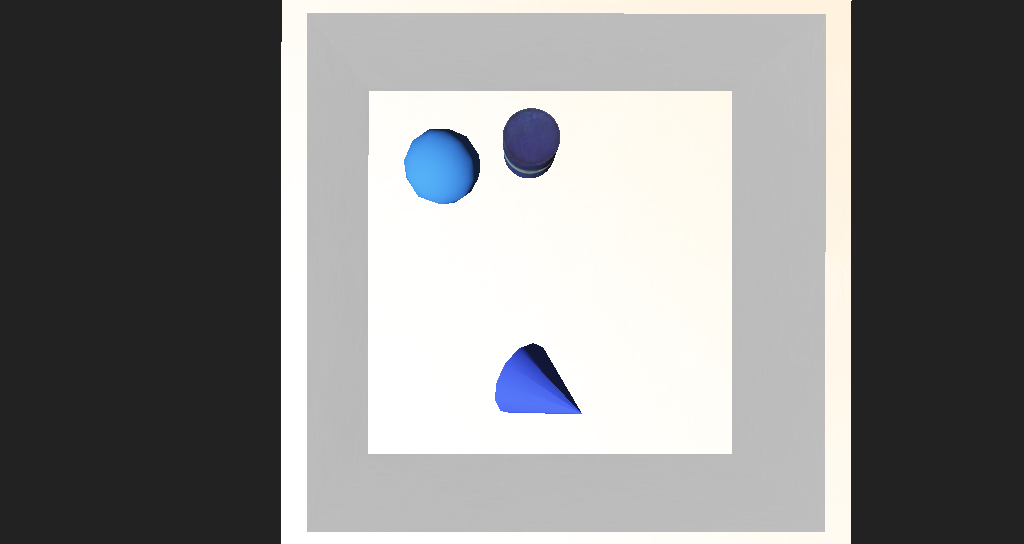cone: (468, 174, 515, 217)
cylinder: (451, 308, 559, 379)
sphere: (387, 181, 448, 229)
